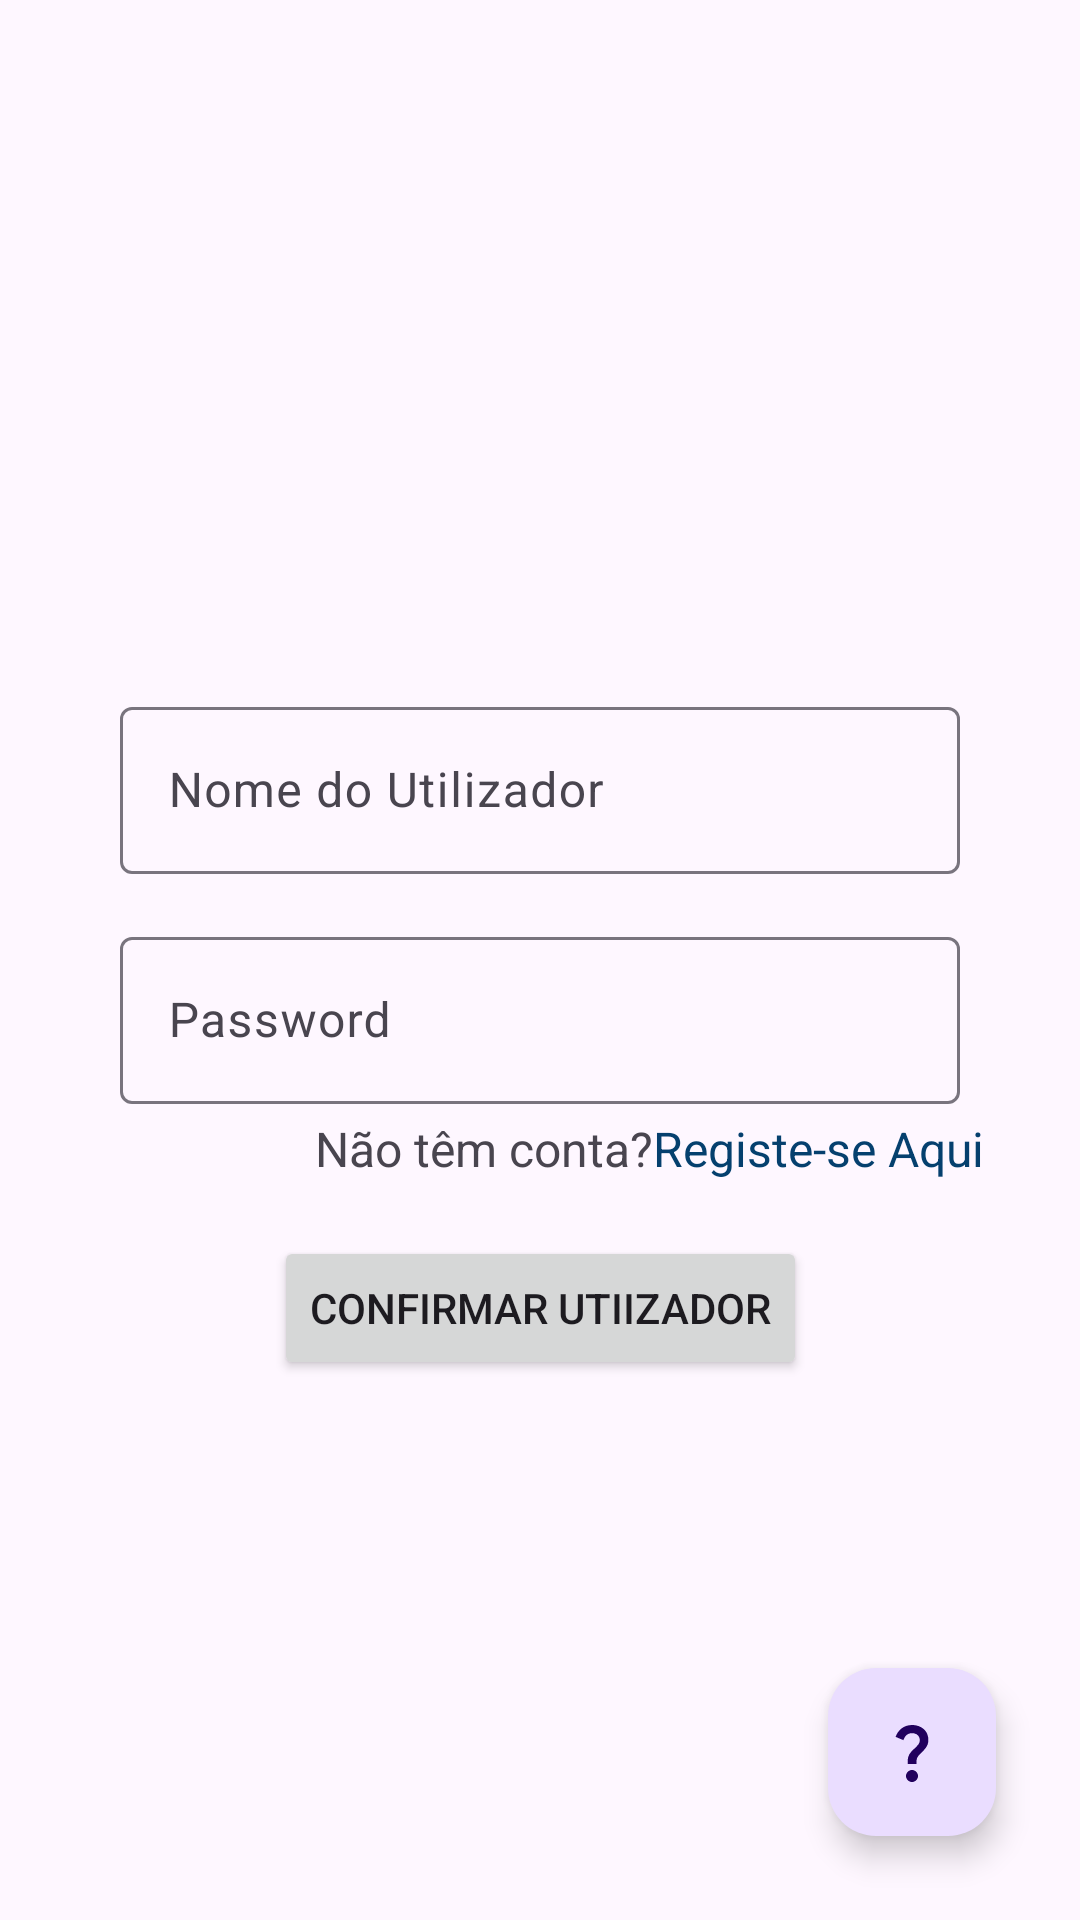

Point at icon controls on the screen. Image size 1080x1920, points as [x,y].
question mark: [912,1752]
